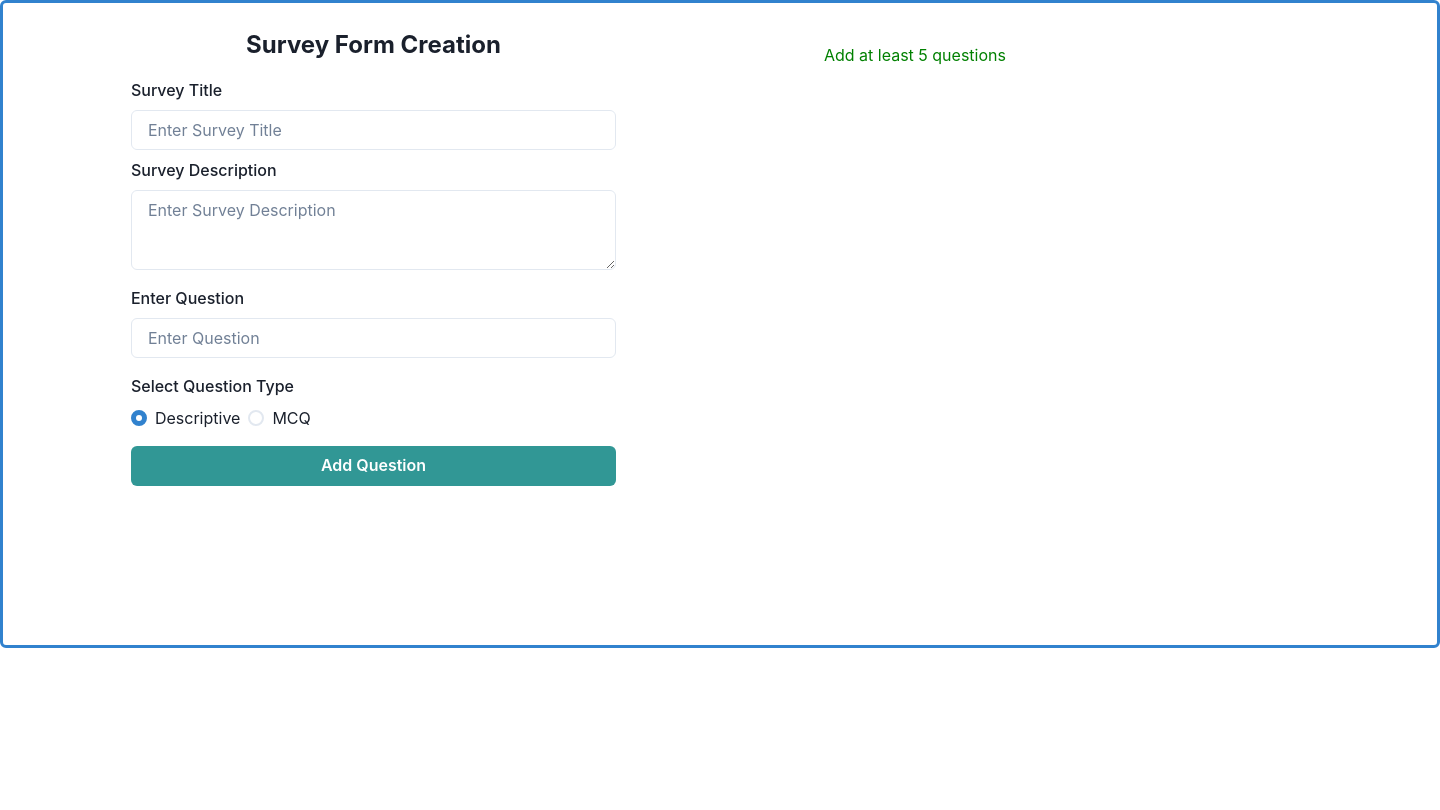
Test: survey page component testing › should all questions are showing
In the field with placeholder "Enter Question": (374, 338) [131,318,616,358], type "Question1"
Click the button "Add Question": (374, 466) [131,446,616,486]
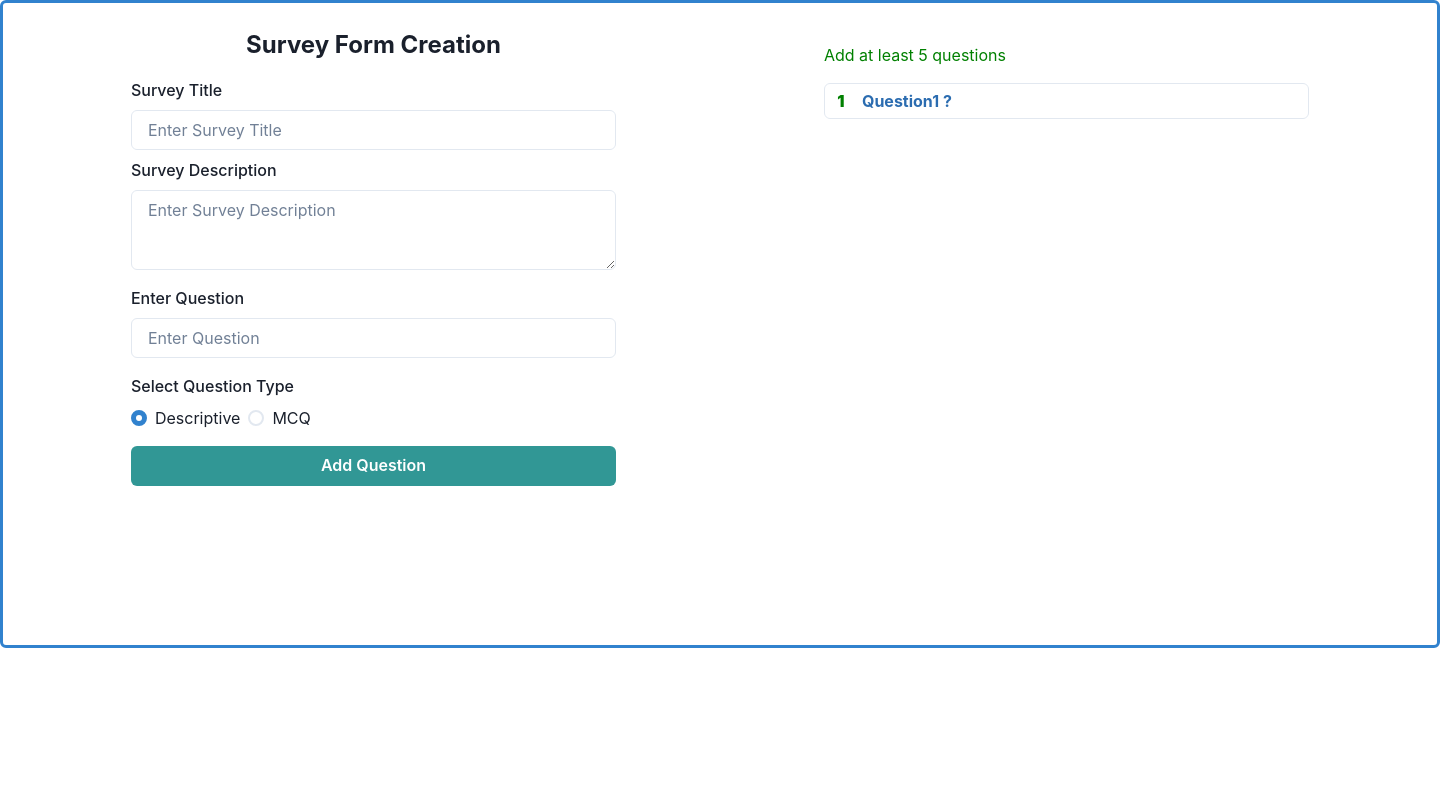
In the field with placeholder "Enter Question": (374, 338) [131,318,616,358], type "Question2"
Click the button "Add Question": (374, 466) [131,446,616,486]
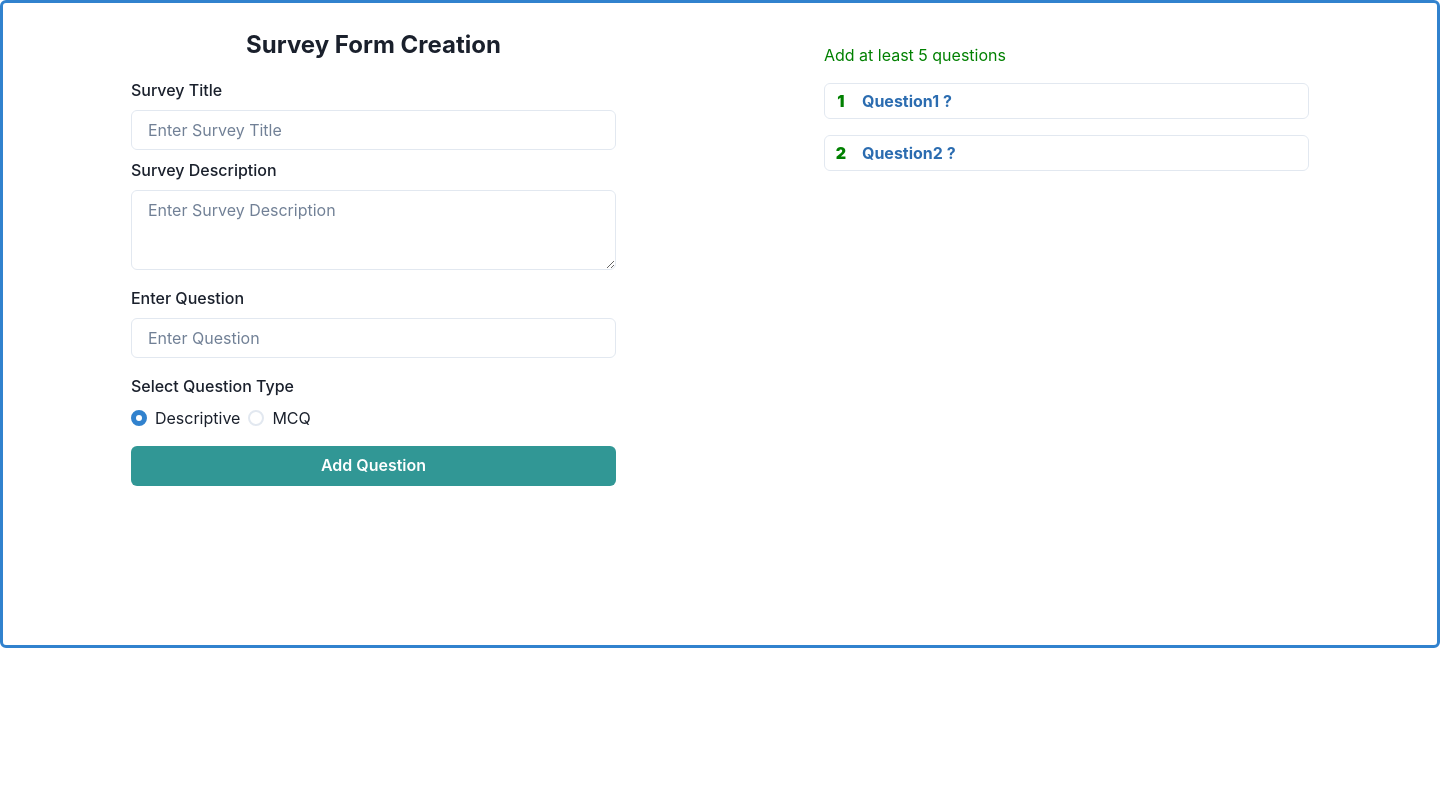
In the field with placeholder "Enter Question": (374, 338) [131,318,616,358], type "Question3"
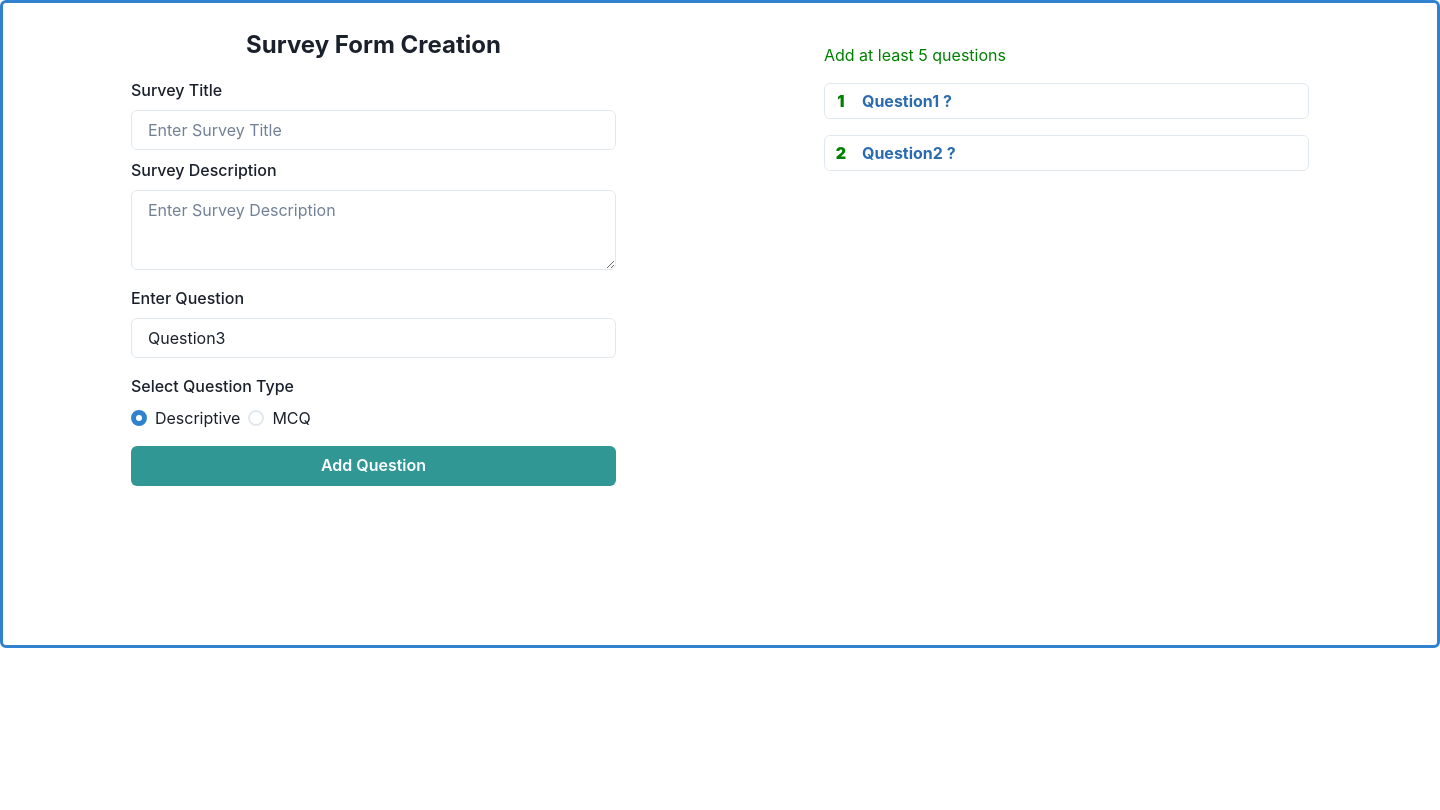
Click the button "Add Question": (374, 466) [131,446,616,486]
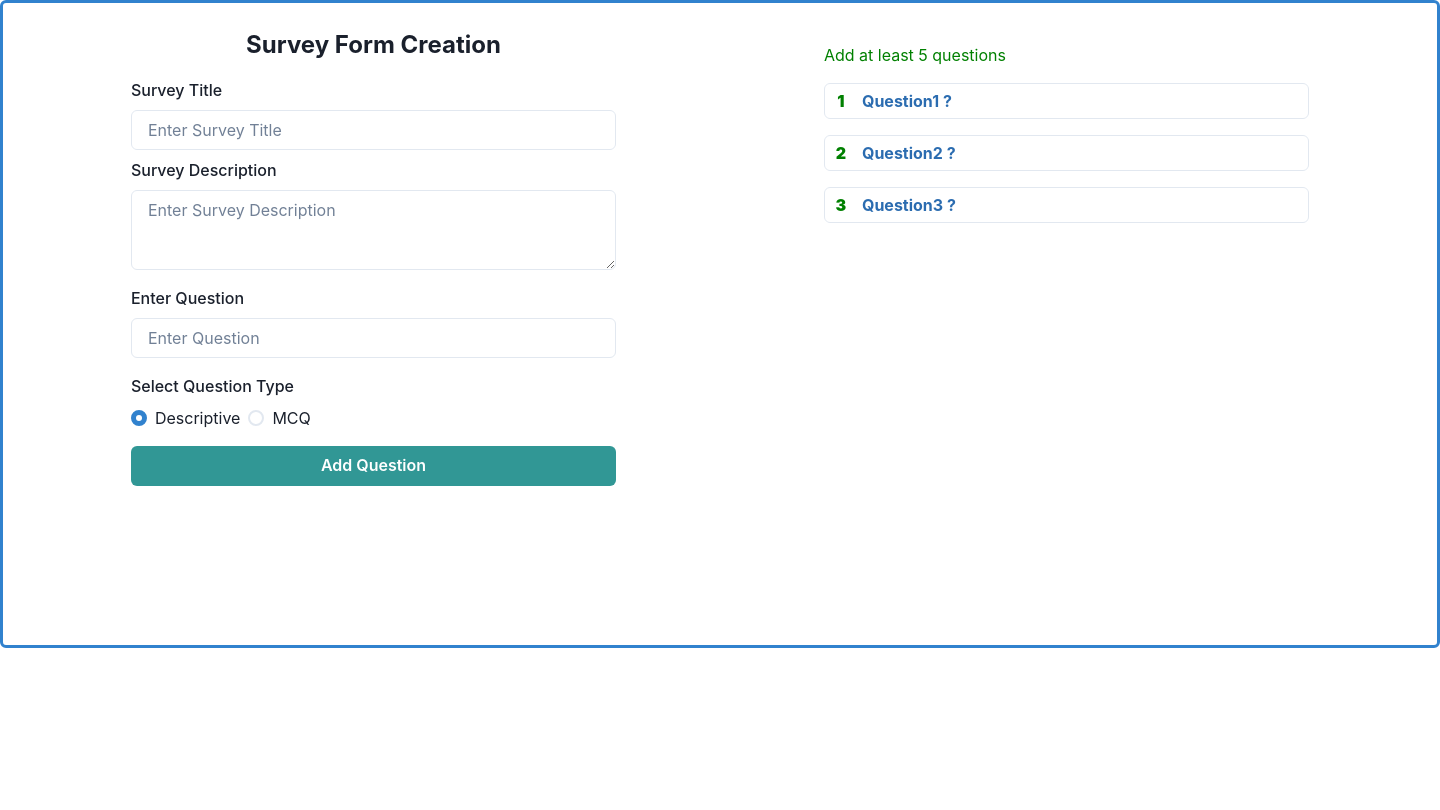
In the field with placeholder "Enter Question": (374, 338) [131,318,616,358], type "Question4"
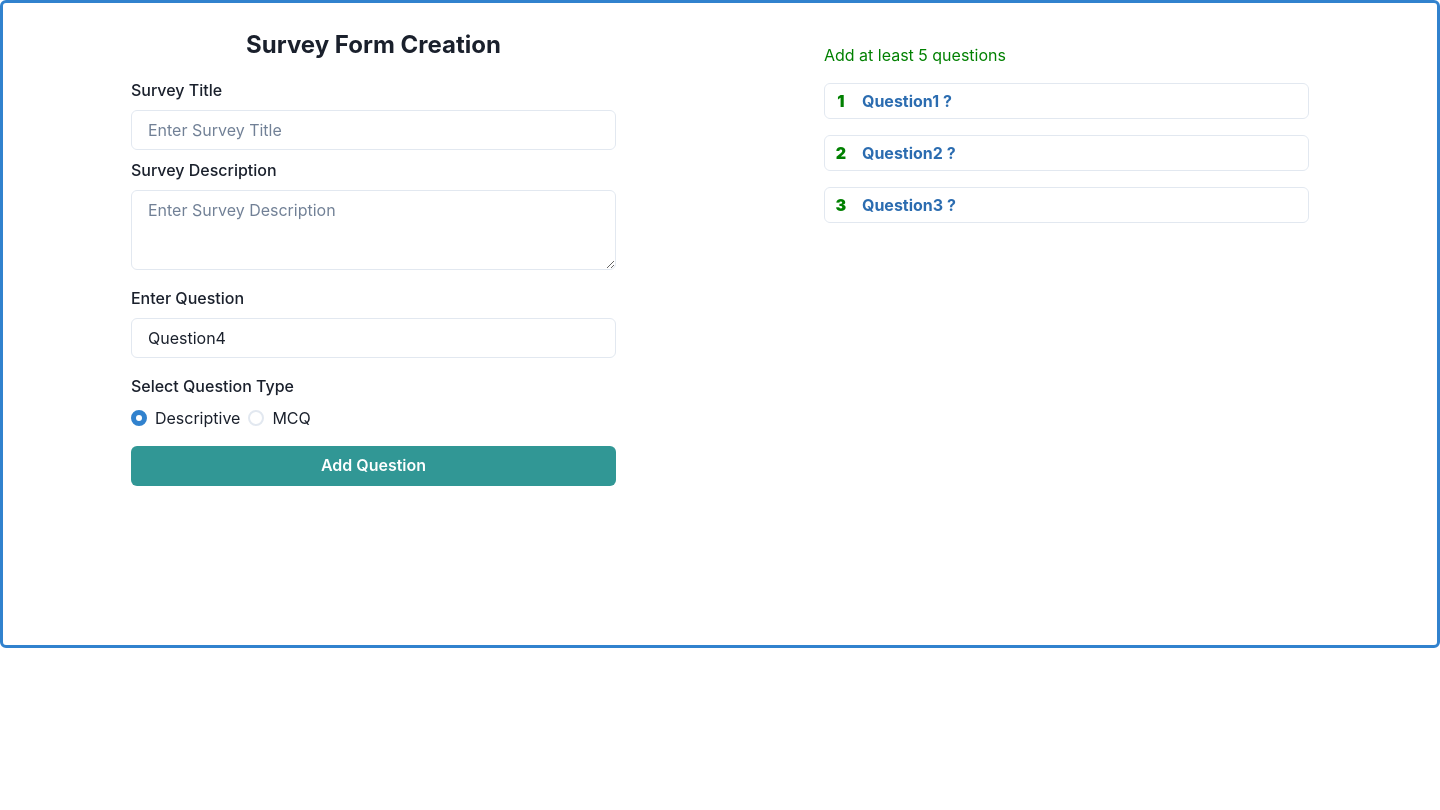
Click the button "Add Question": (374, 466) [131,446,616,486]
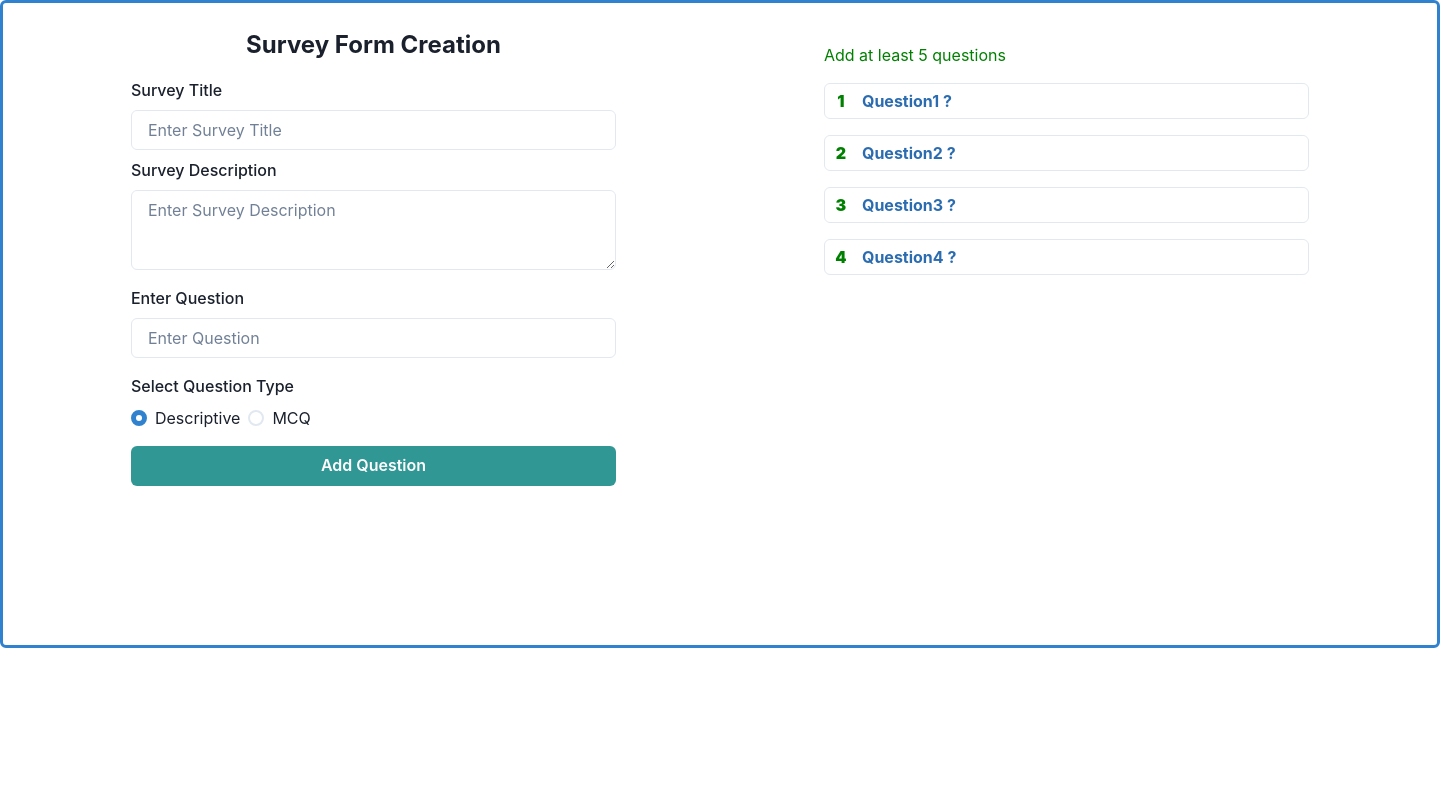
Expected: the number of elements with test id "questions" is 4, [824,83,1309,119]; [824,135,1309,171]; [824,187,1309,223]; [824,239,1309,275]
